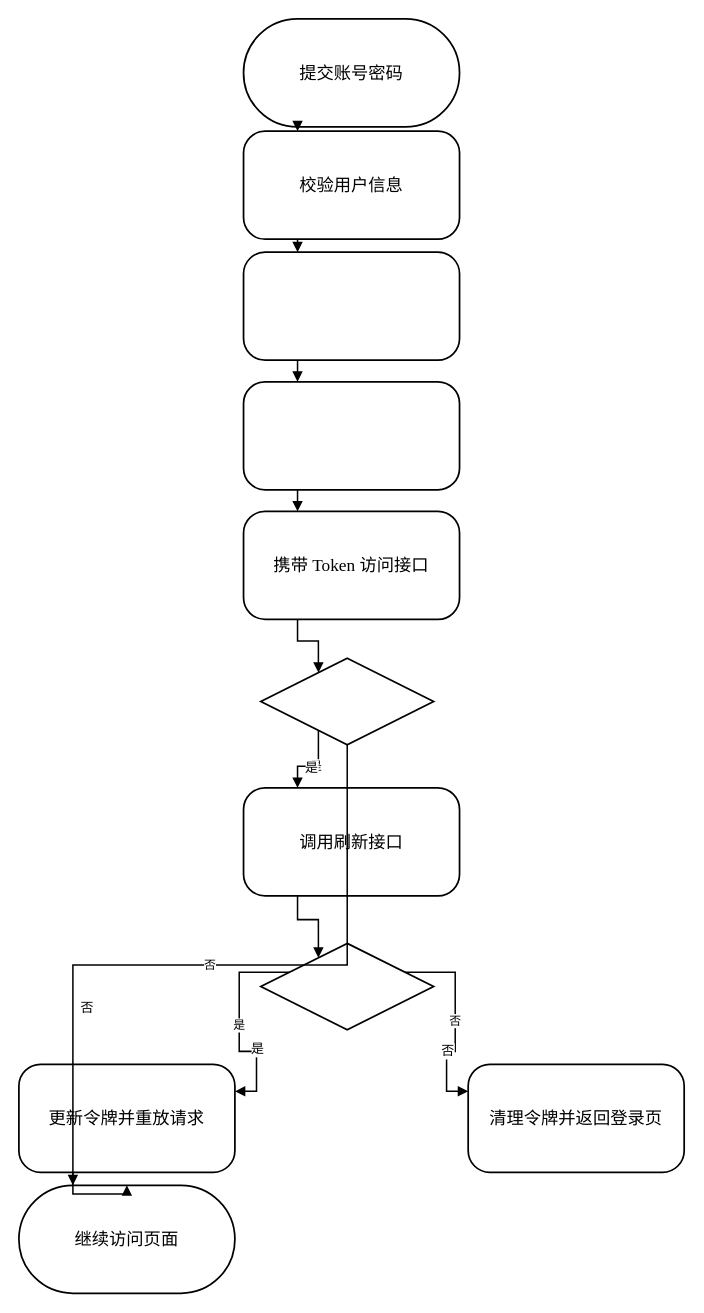
The diagram is 704 pixels wide and 1313 high, and some of its shapes have lost their labels. Each missing label, with the centre of its shape:
保存令牌并加载菜单: point 351,435
刷新成功？: point 346,986
收到 401？: point 346,701
签发令牌: point 351,306
